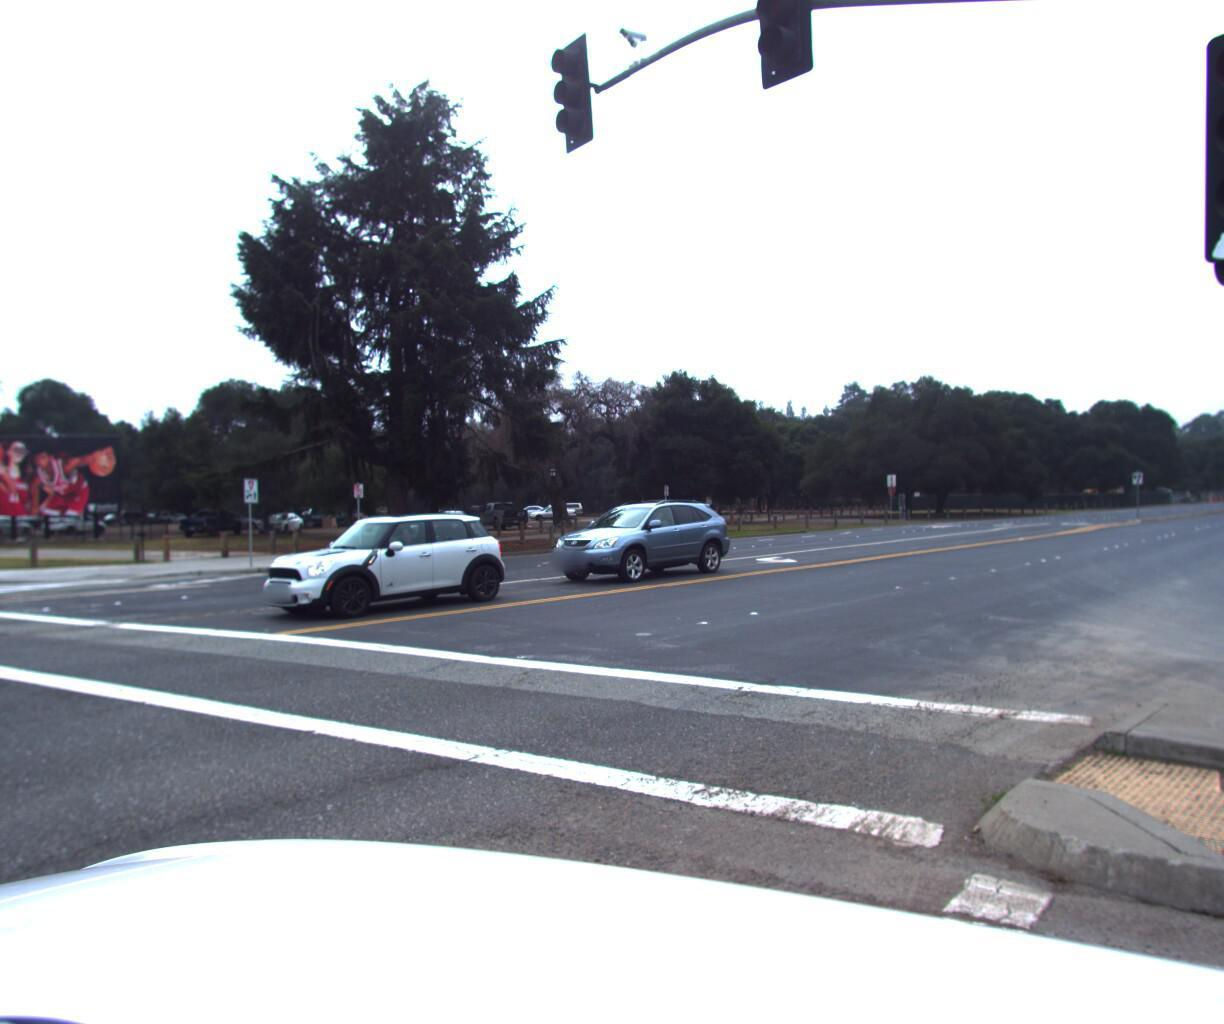car: (238, 509, 507, 623), (527, 495, 735, 584)
